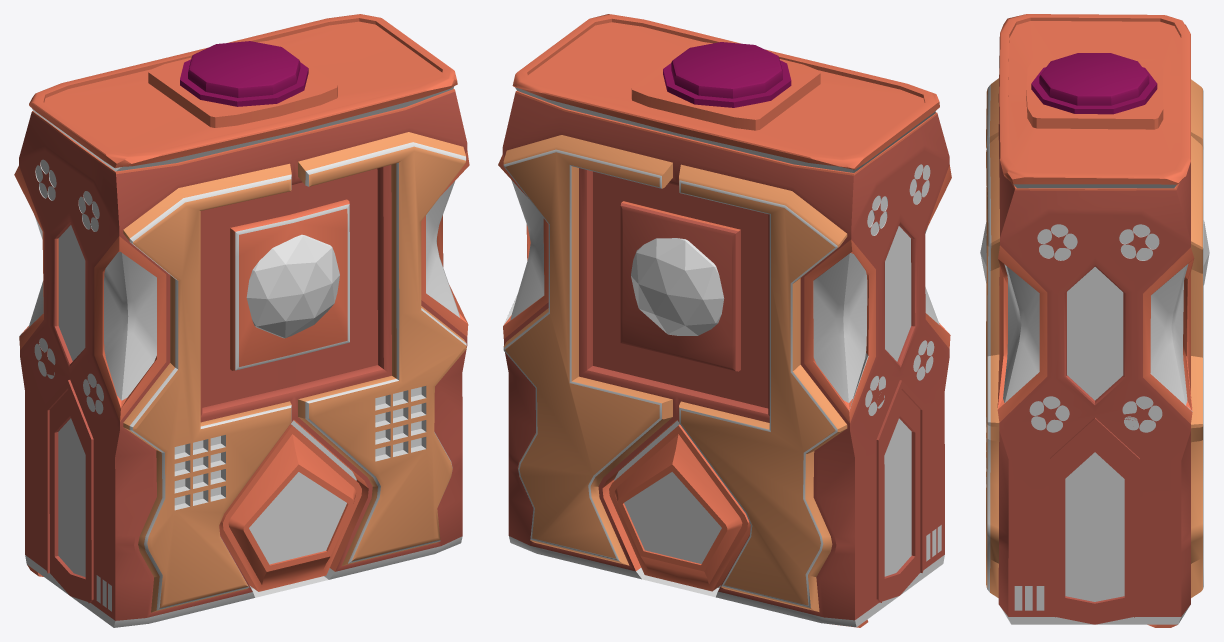
Rendered from PurplePedestal.fbx.
3 renders of one model, left to right at view 1: azimuth 30°, elevation 25°; view 2: azimuth 150°, elevation 25°; view 3: azimuth 270°, elevation 25°, orthographic. The views are drawn at different scales.
Parts seen in each view (by area): view 1: Pedestal; view 2: Pedestal; view 3: Pedestal.
Part boxes in pixels (bbox=[...]): Pedestal: bbox=[14, 14, 469, 627]; Pedestal: bbox=[498, 14, 951, 627]; Pedestal: bbox=[980, 14, 1209, 627].
Size of the model in its own units: 56.84 by 75.48 by 33.17.
